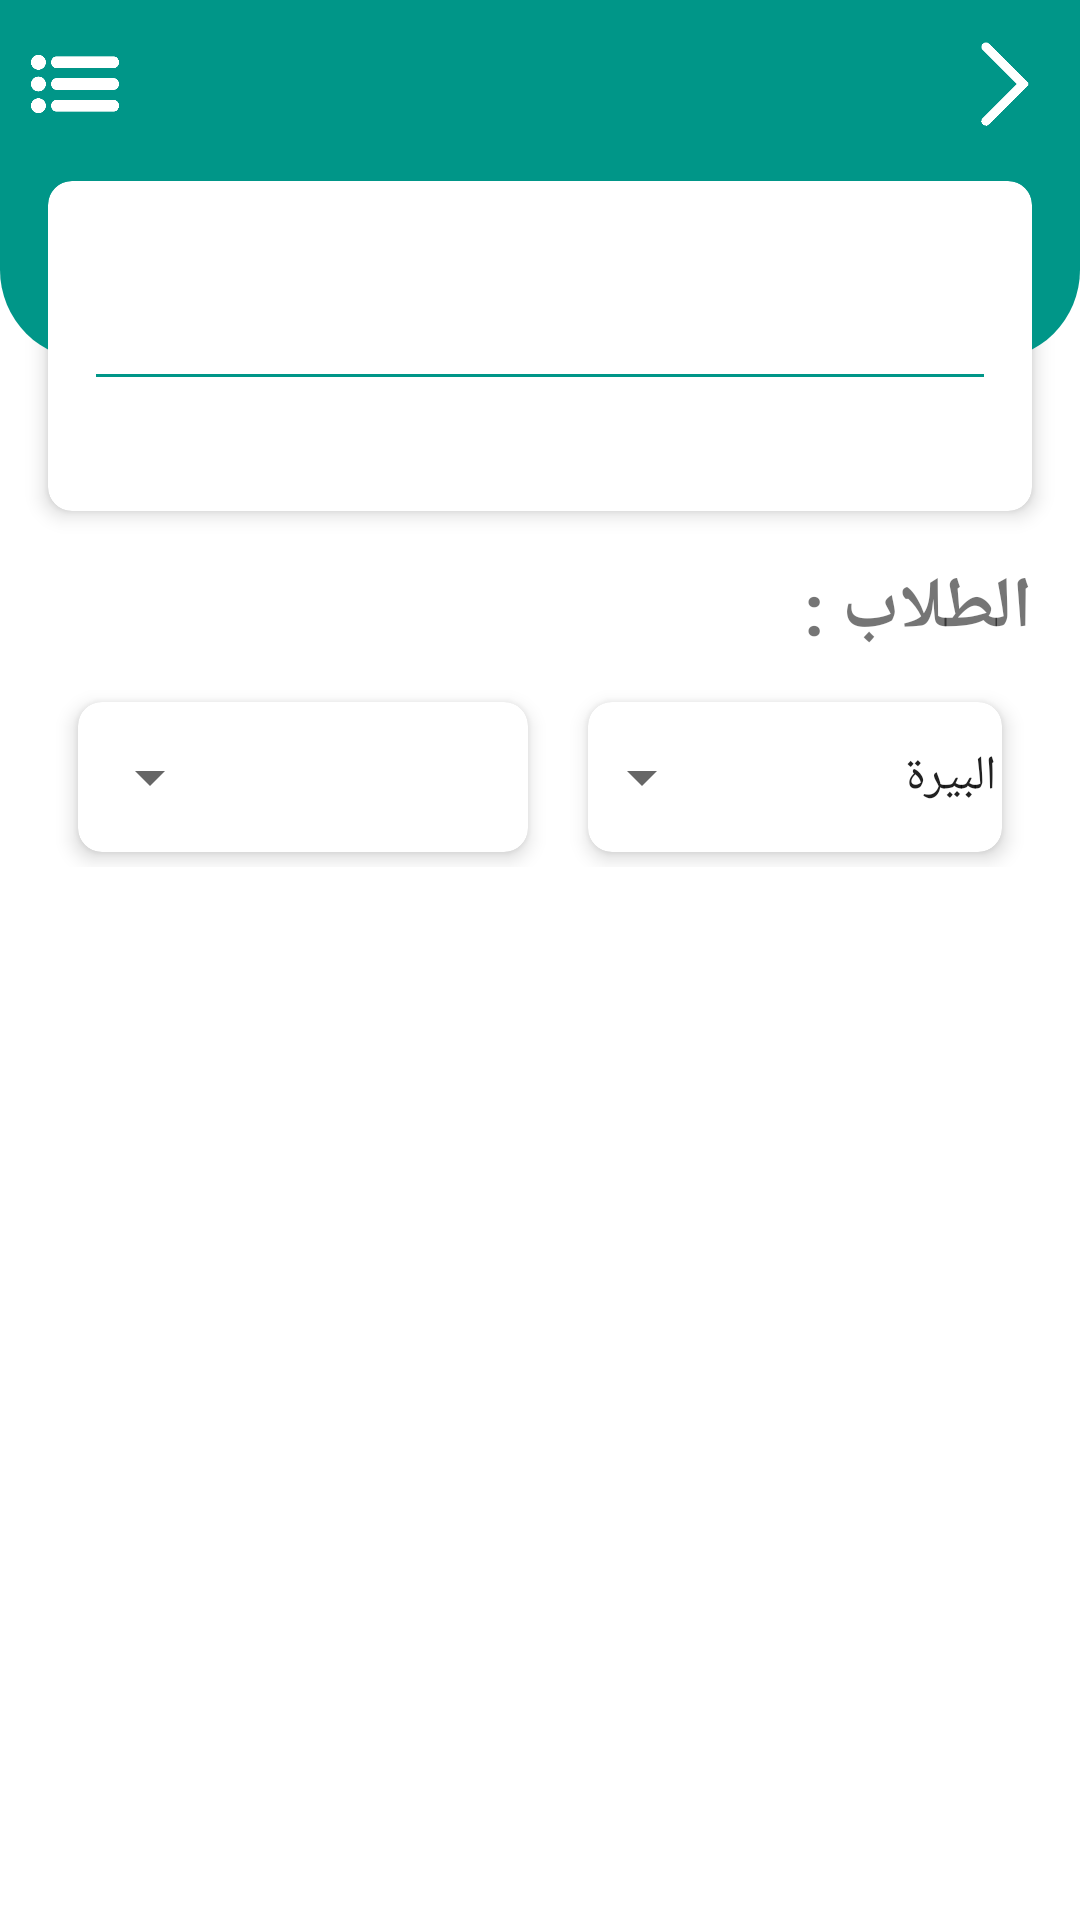

Point at icon controls on the screen. Image size 1080x1920, points as point (x, y).
iconmenu: point (75, 84)
